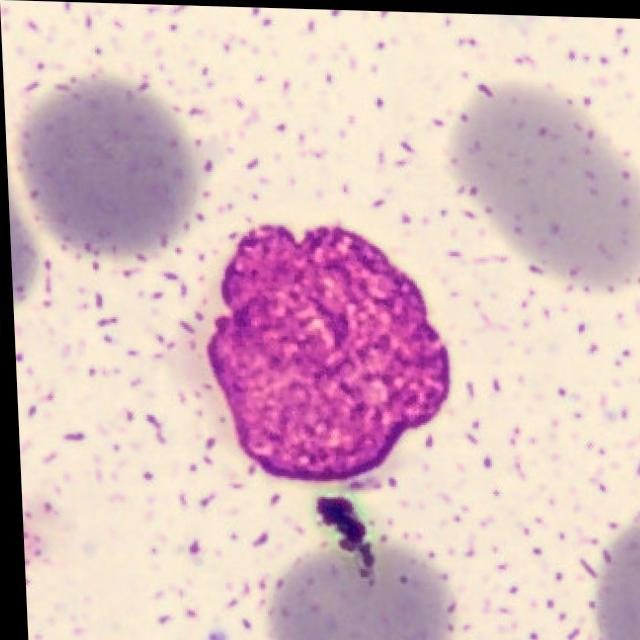Restos celulares: (204, 223, 448, 482)
